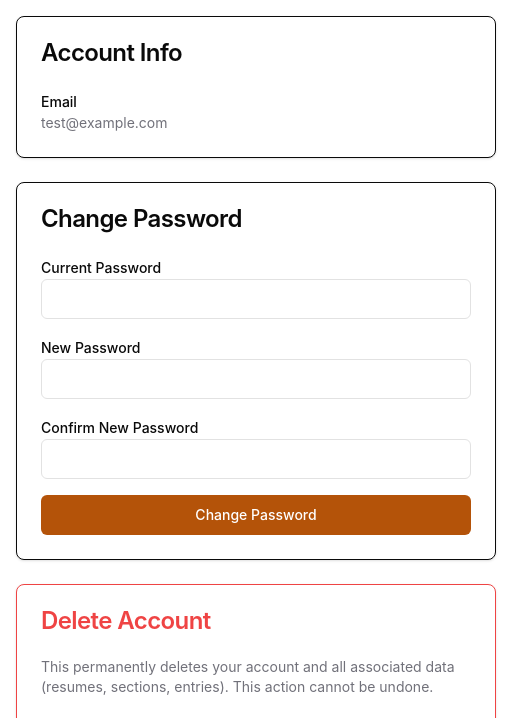
Test: AccountView › Change Password › shows error when new passwords do not match
Type "current" into the password field with id "current-password" at (256, 299), box left=41, top=279, right=471, bottom=319
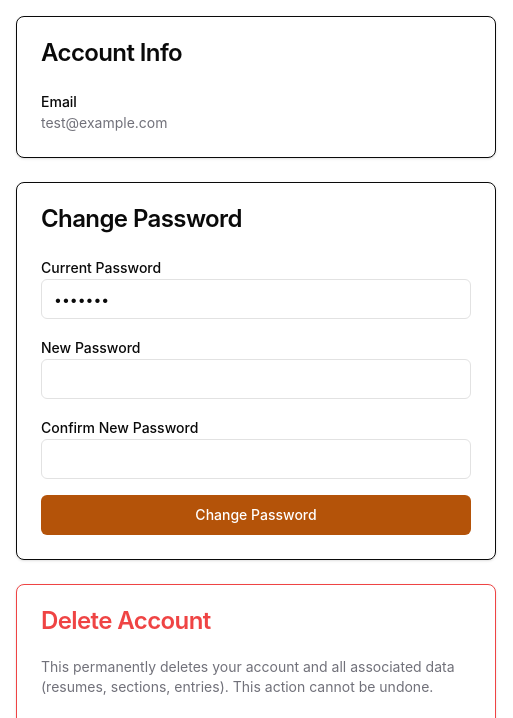
Type "new1234" into the password field with id "new-password" at (256, 379), box left=41, top=359, right=471, bottom=399
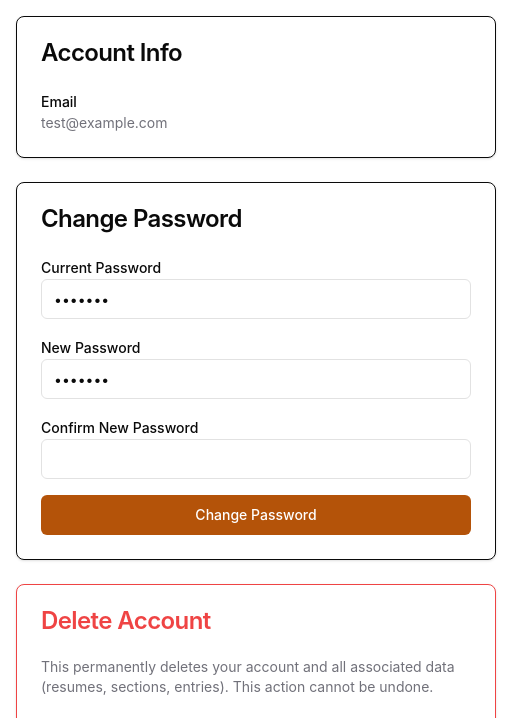
Type "different" into the password field with id "confirm-new-password" at (256, 459), box left=41, top=439, right=471, bottom=479
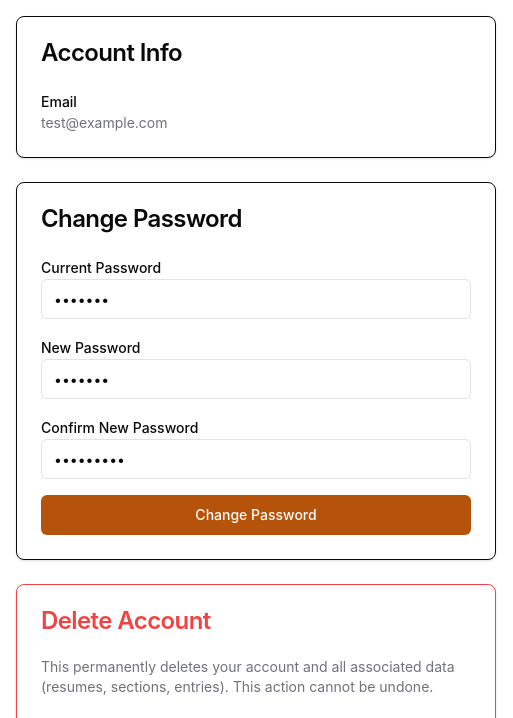
Note: Trigger the first form (change password)
Submit the form that starts with "Current Password", box left=41, top=255, right=471, bottom=535
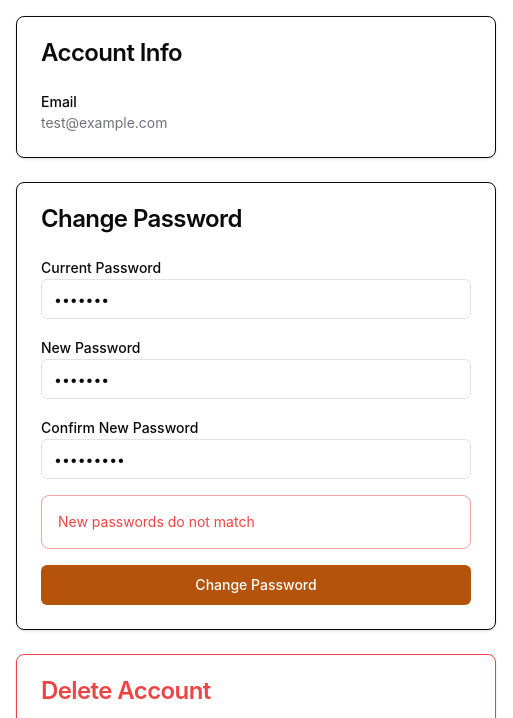
Now the message "New passwords do not match" is shown, box left=41, top=495, right=471, bottom=549
